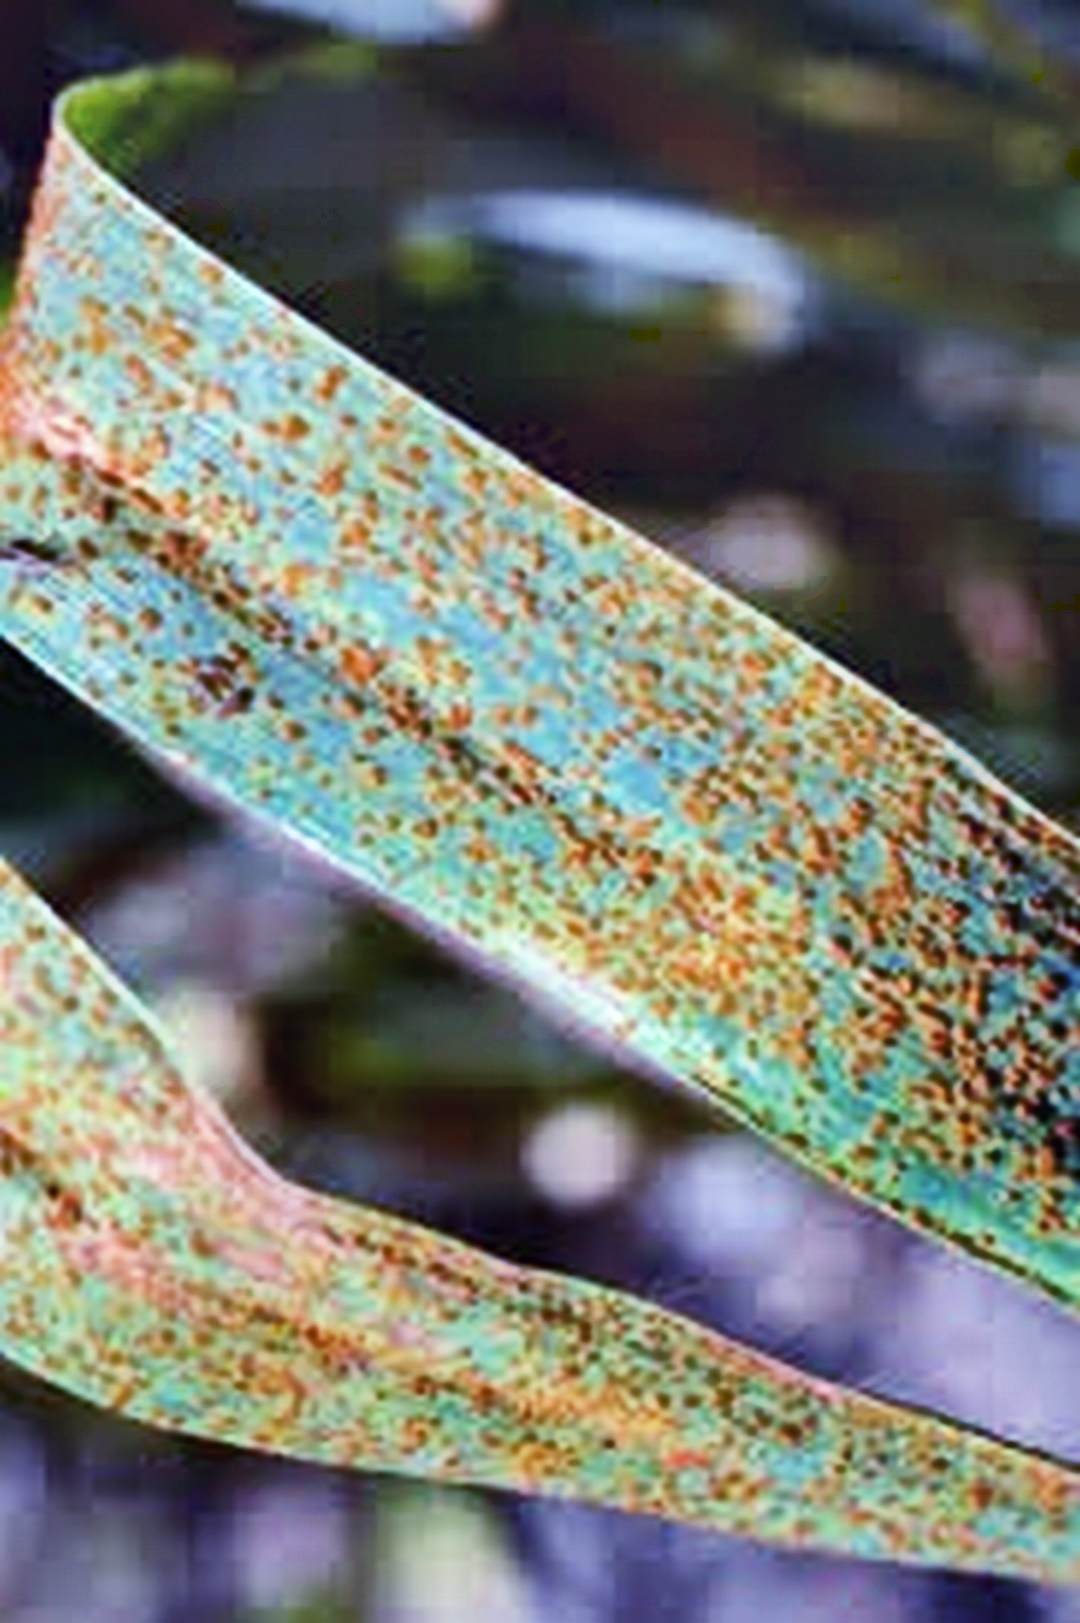Leaf Rust: (35, 293, 1067, 1172)
